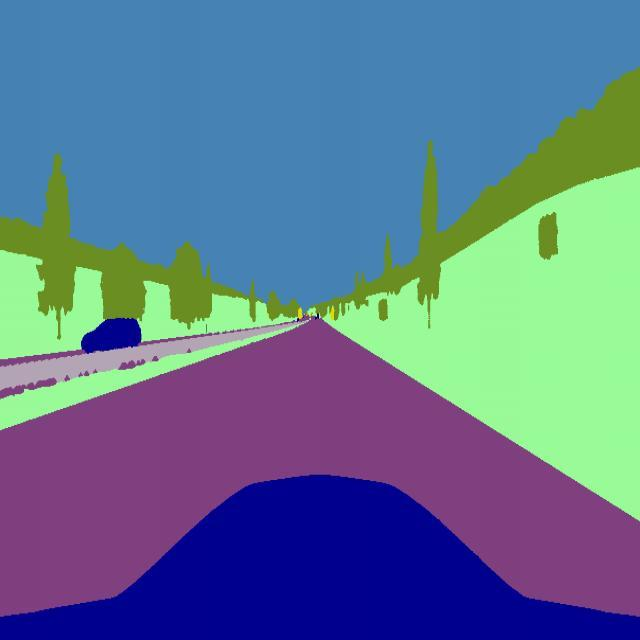safe: (76, 312, 144, 352)
